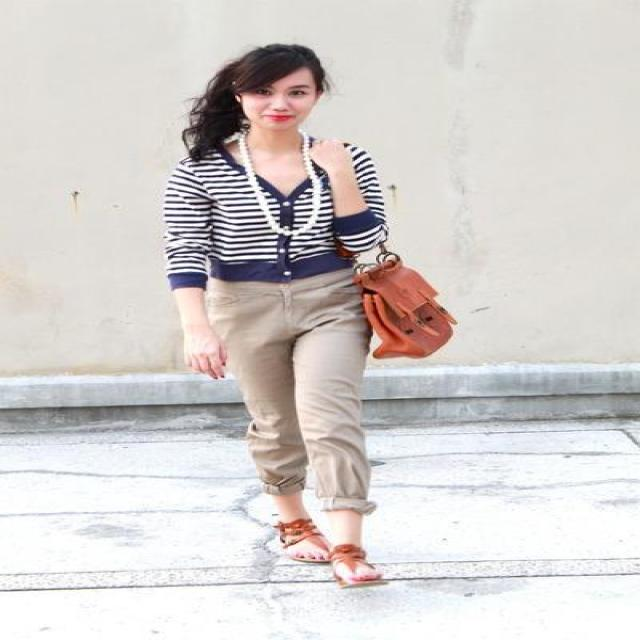bag: (355, 252, 456, 358)
jacket: (162, 167, 386, 290)
pants: (218, 264, 382, 498)
shoe: (274, 518, 374, 568)
